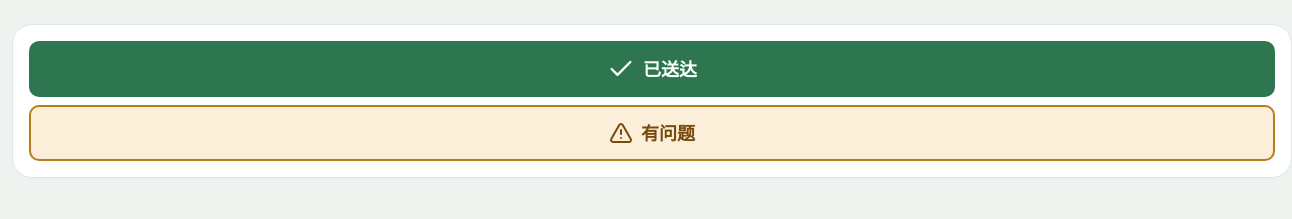
Test: StopStatusActions in zh-Hans › does not navigate and says so when the phone cannot store the tap
Click the button with test id "btn-delivered" at {"x": 652, "y": 69}, box [29, 41, 1275, 97]
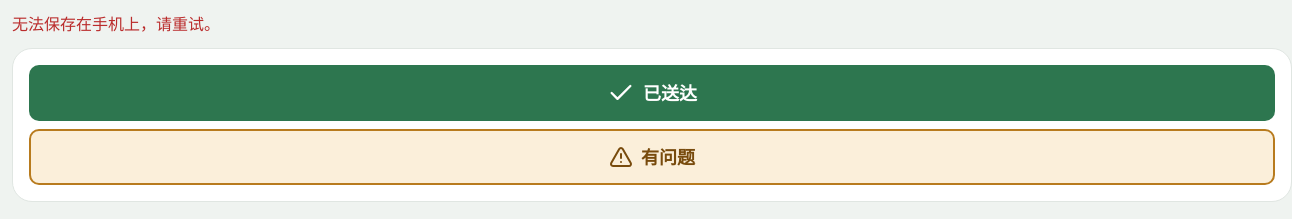
Expected: the message "无法保存在手机上，请重试。" is shown, [12, 13, 220, 35]
